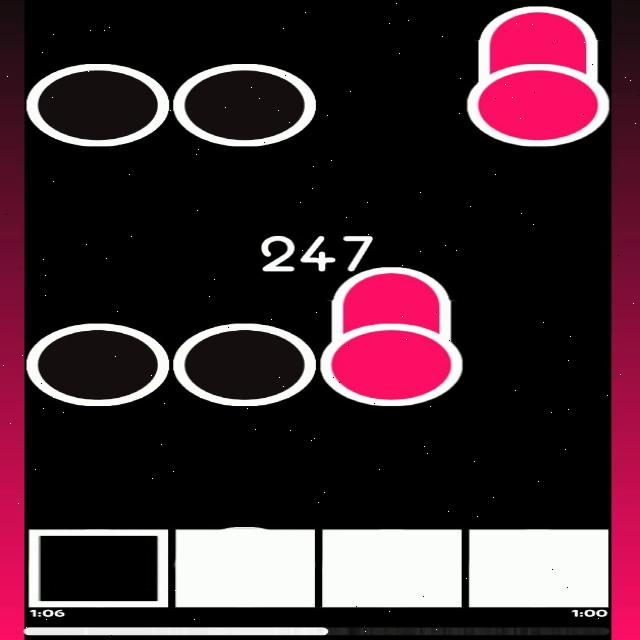end_hold: (325, 261, 457, 307), (471, 0, 599, 42)
note: (26, 322, 172, 407), (28, 64, 169, 148), (175, 65, 317, 148), (173, 324, 314, 406)
start_hold: (469, 53, 610, 148), (322, 315, 462, 406)
